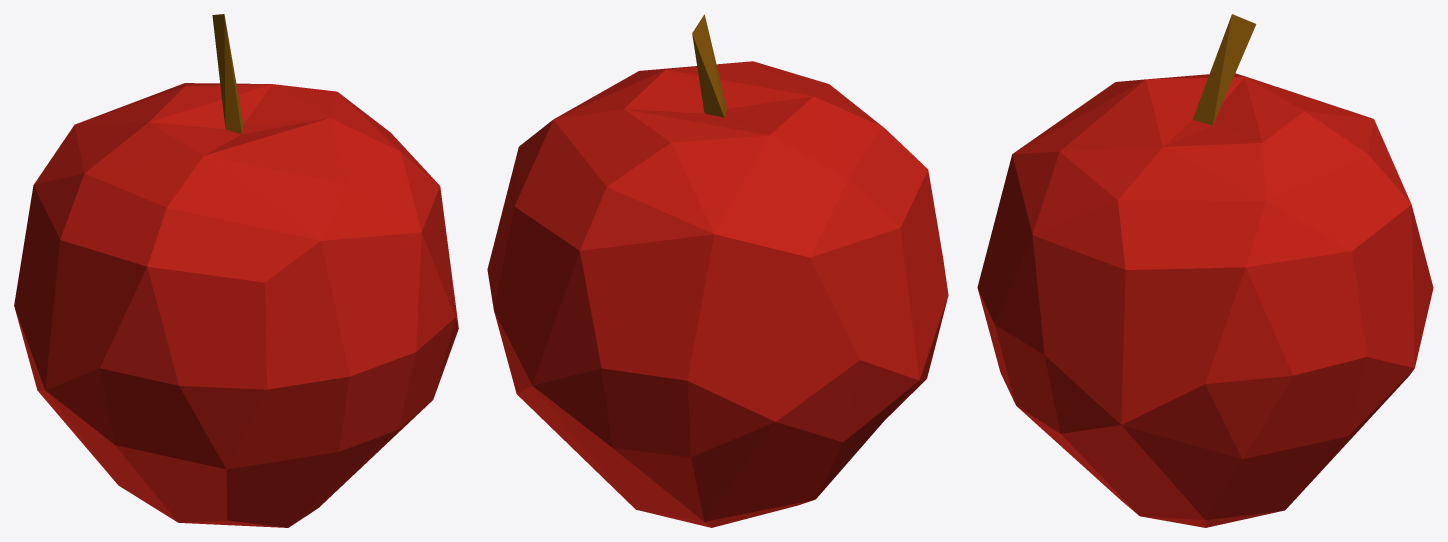
The model's file is Apple.fbx.
3 renders of one model, left to right at view 1: azimuth 30°, elevation 25°; view 2: azimuth 150°, elevation 25°; view 3: azimuth 270°, elevation 25°, orthographic. The views are drawn at different scales.
Visible parts, largest first — view 1: Circle; view 2: Circle; view 3: Circle.
Boxes of the visible parts, x1,y1,x2,y2 form: Circle: (14, 14, 458, 527); Circle: (487, 14, 948, 527); Circle: (977, 14, 1433, 527).
Bounding box in the file's own units: 201 × 235 × 202.
